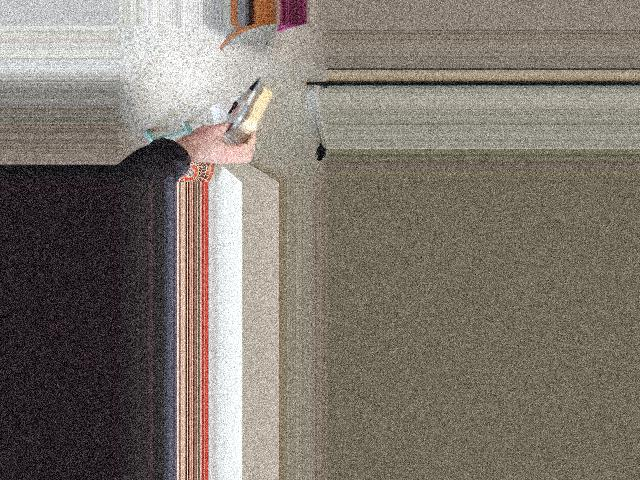cheese: (206, 74, 287, 176)
